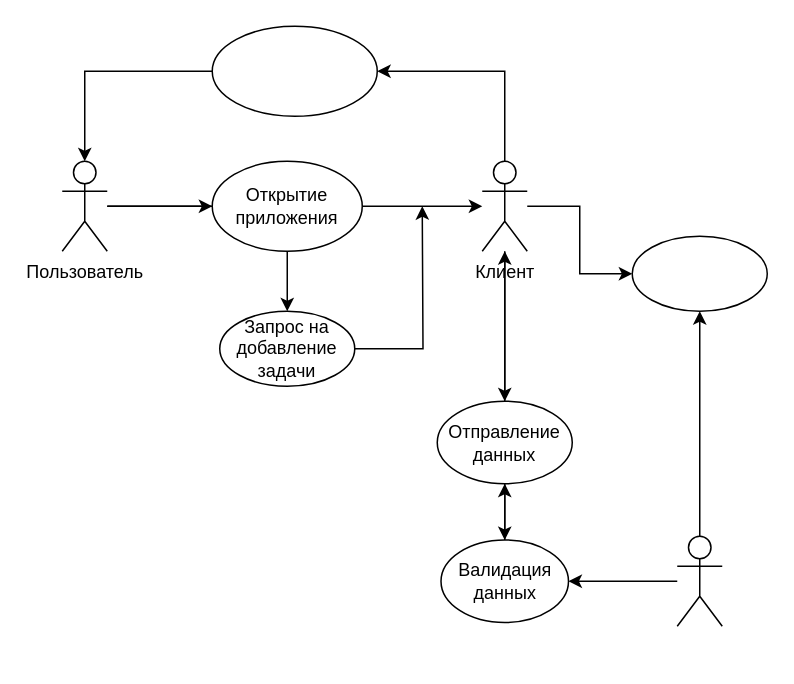
Image size: 794x684. Some labels were removed from this diagram. The centre of each missing label's shape, as x and y in pixels:
"Рукопожатие": the point at 699,273
Сервер: the point at 699,580
Уведомление об успехе: the point at 294,70
